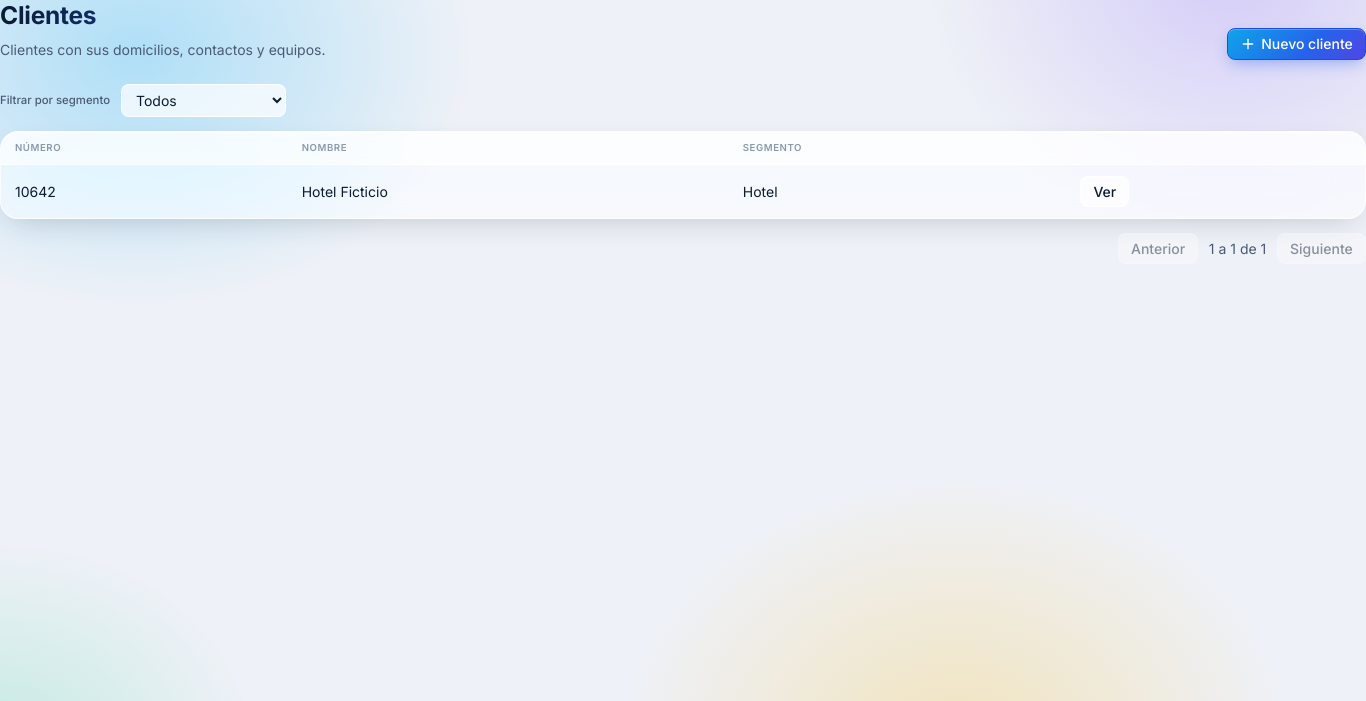
ClientsPage › equipos (E03-03) › filtra los equipos por domicilio
Click the button with aria-label "Ver Hotel Ficticio" at [1105, 192], box [1080,176,1130,207]
(page scrolled)
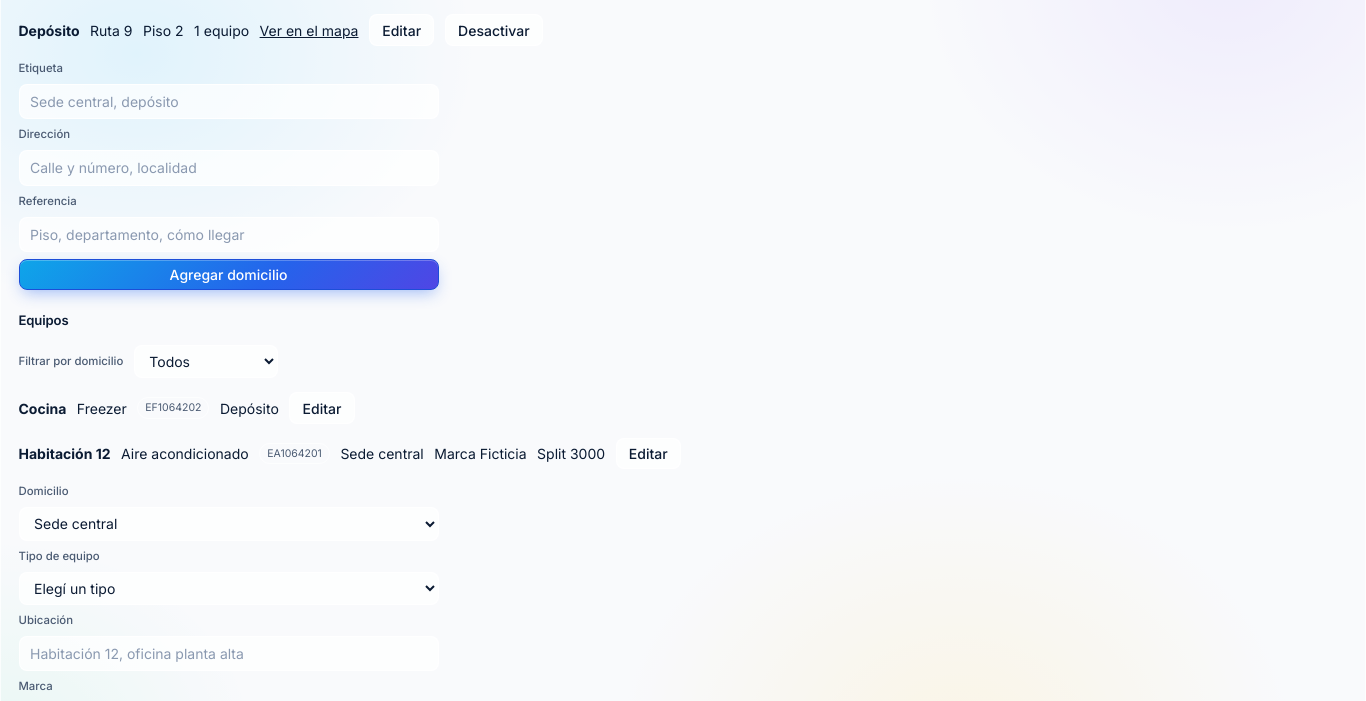
Expected: the list item "EF1064202" is shown, [18,392,355,424]
Select "Sede central" in the dropdown labelled "Filtrar por domicilio" at [206, 362], box [134,345,278,378]
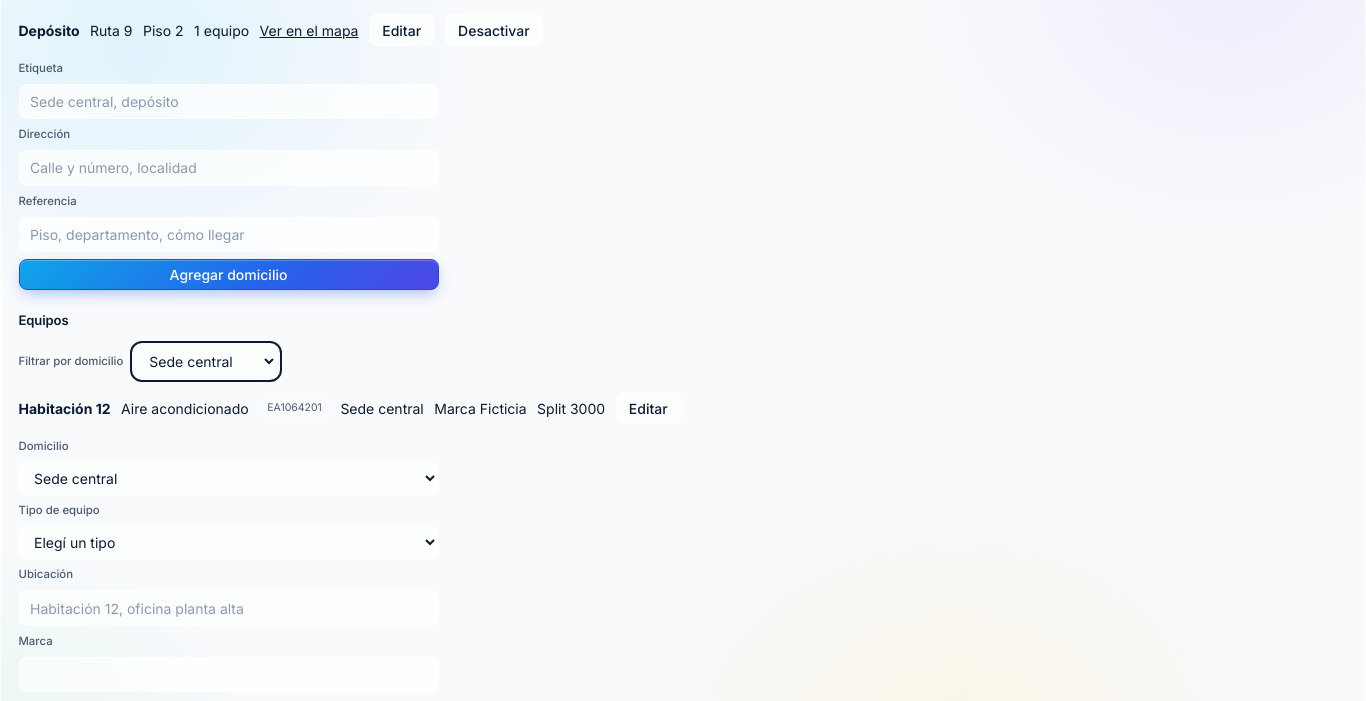
Expected: the text "EF1064202" is gone
